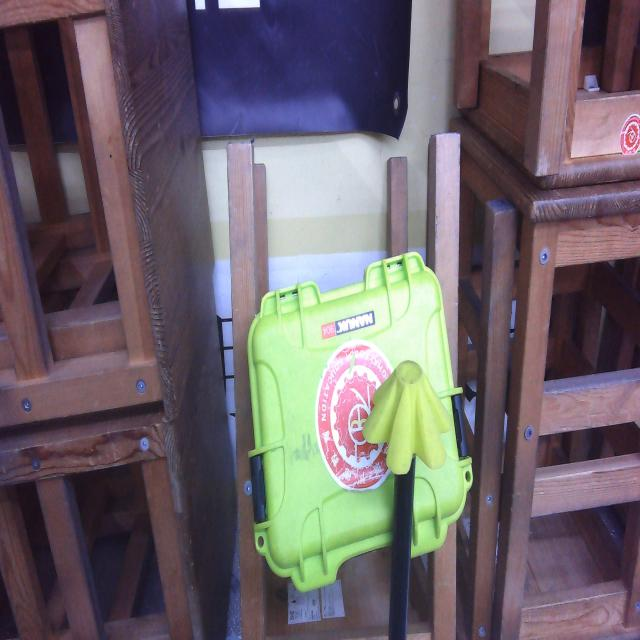Yellow-Stake-Head: (361, 359, 450, 475)
